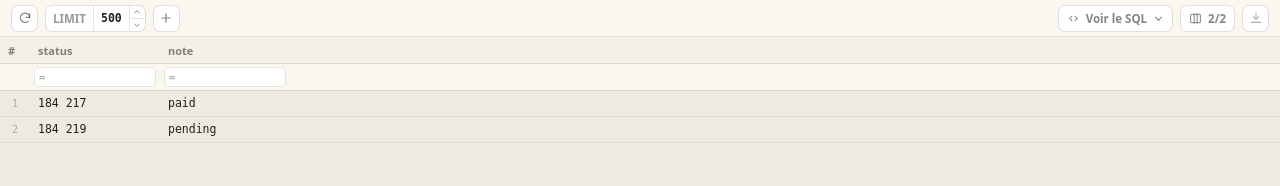
Scenario: ajouter une ligne › une table sans clé primaire refuse la modification et accepte l’ajout
expect the text "paid" is shown: met, box [168,96,196,110]
L'ajout, lui, ne vise aucune ligne — le refuser interdirait un geste possible.
Step 1. Click the button named "Ajouter une ligne" → (166, 18), box [153,4,180,32]
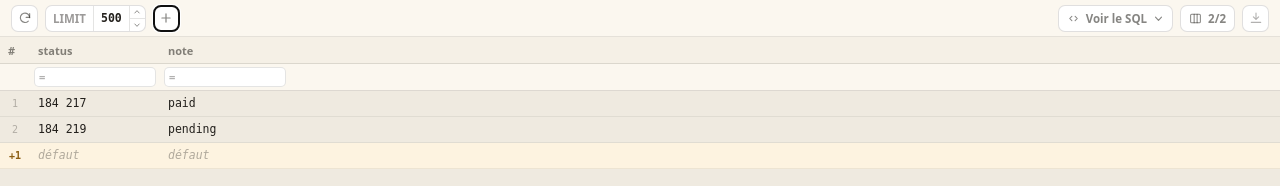
expect the button with aria-label "Renseigner status" is shown: met, box [38,143,152,168]
